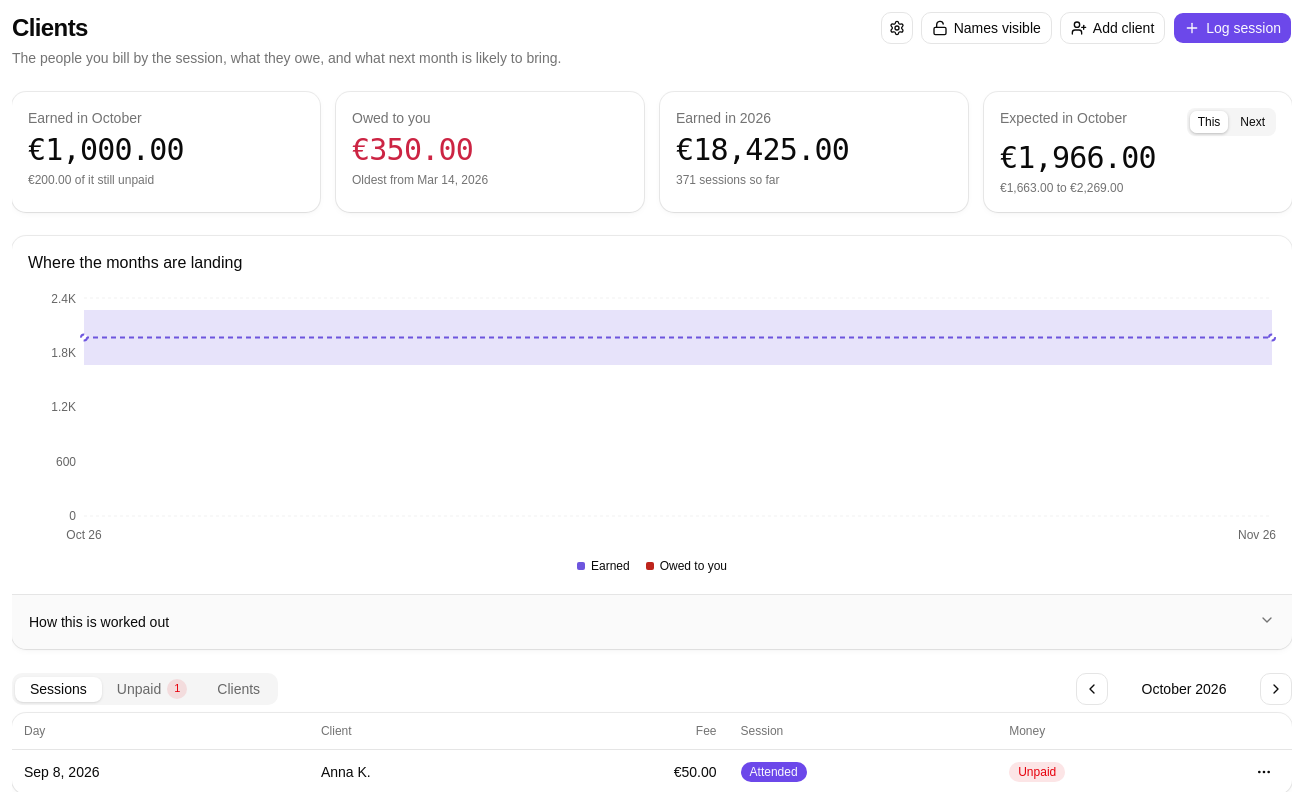
Test: how the estimate explains itself › says how many appointments the month holds
This screenshot has width=1304, height=792.
Click the button "How this is worked out" at [99, 622], box [28, 611, 1276, 633]
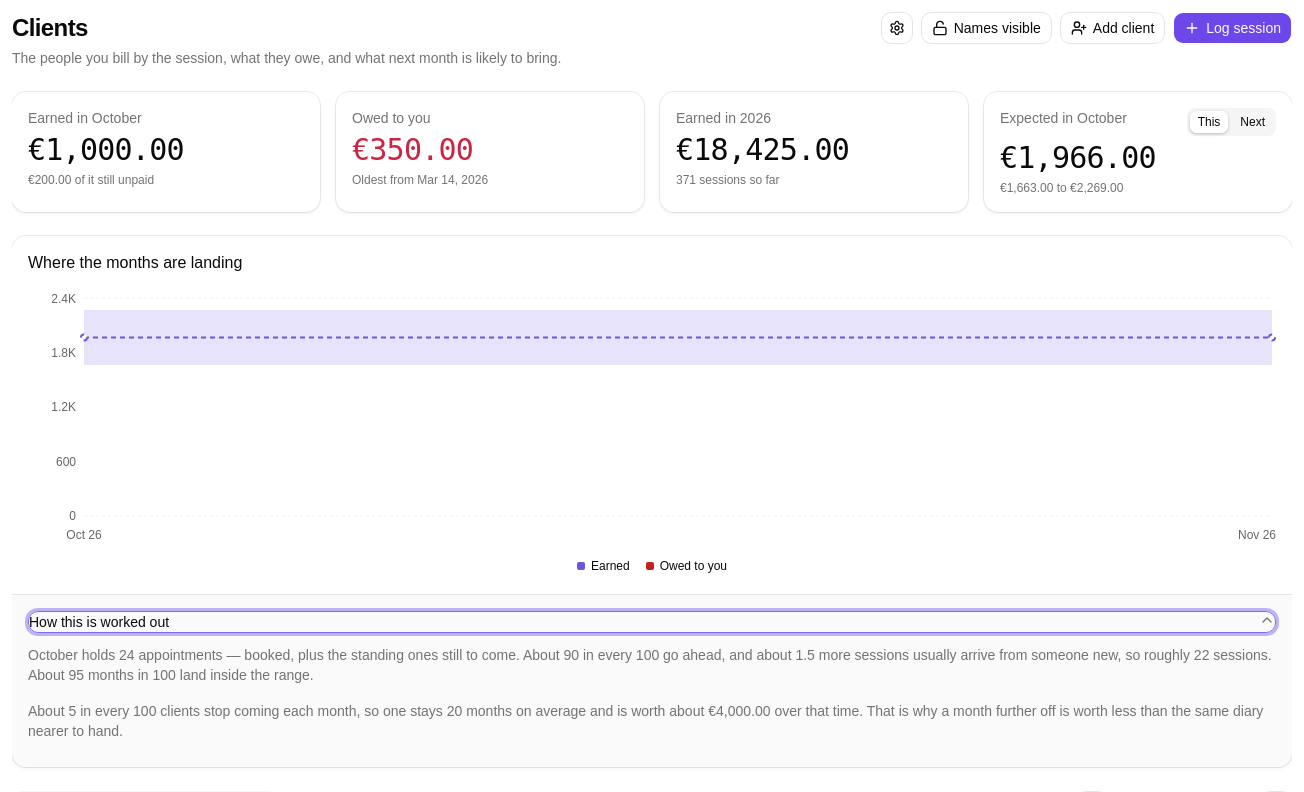
Now the text "24 appointments" is shown, box [28, 645, 1276, 685]
